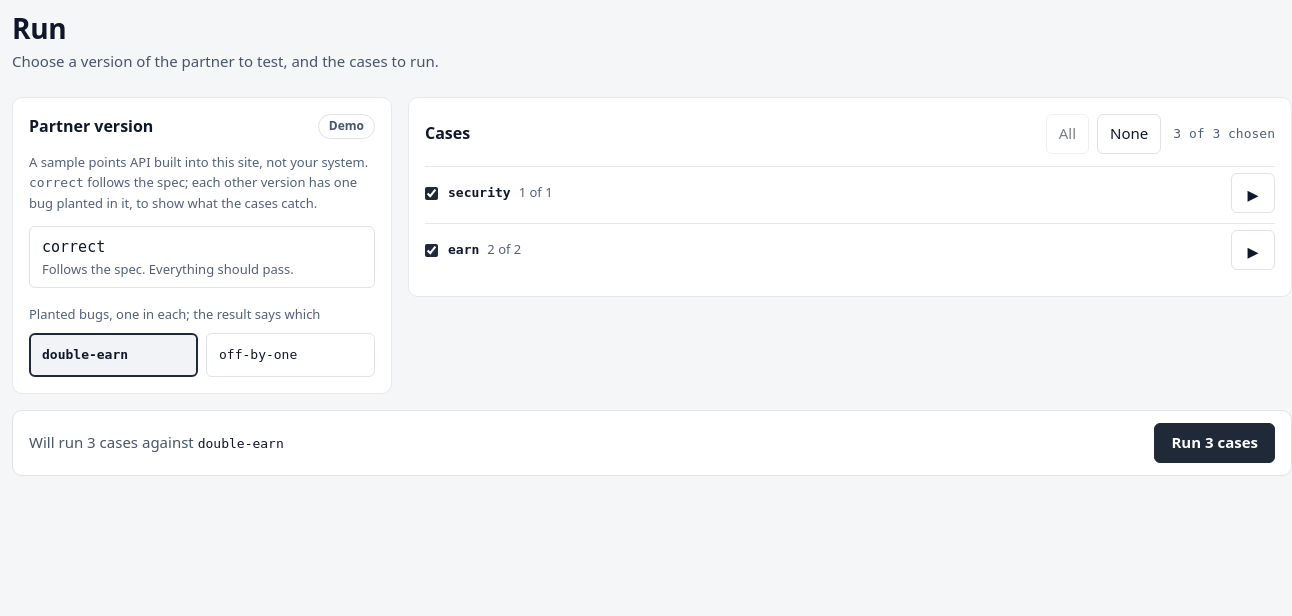
Test: the Run page › while a run goes › keeps the version card and the run bar, and shows the lanes in place of the cases
This screenshot has width=1292, height=616.
What coordinates should you click on to do the following:
click the button "Run 3 cases"
I would click on:
 (1215, 443)
Its box is [1154,423,1275,463].
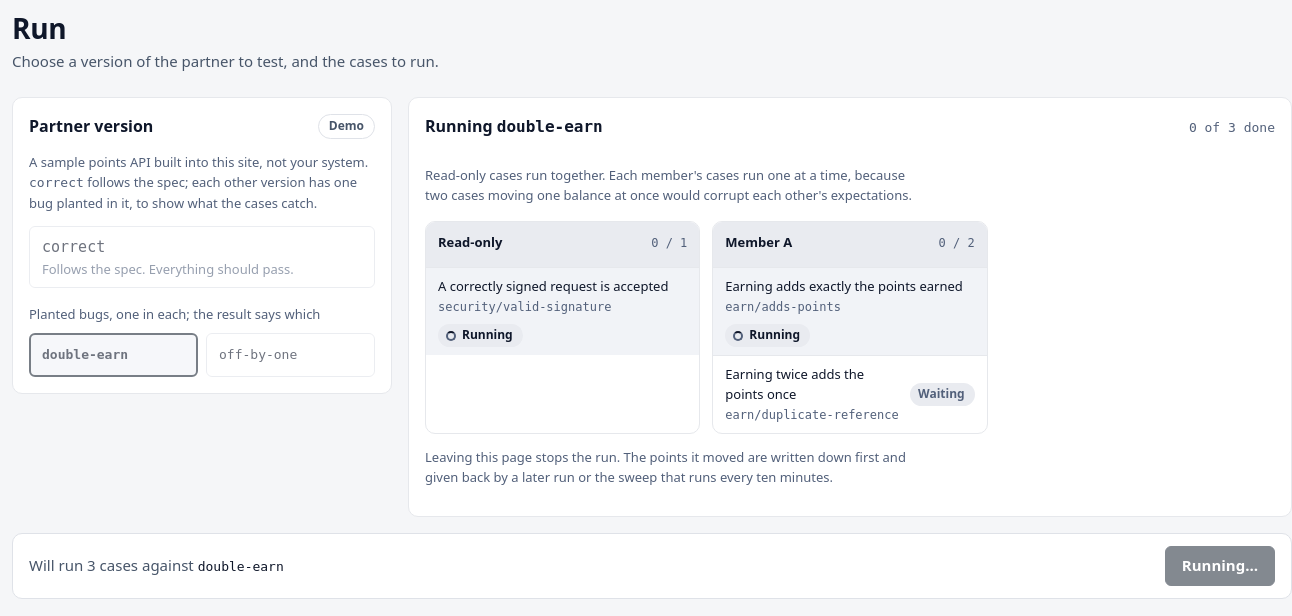
Expected: the heading "Partner version" is shown, [29,114,153,139]
Result: the button "Running…" is shown at [1165,546,1275,586]
Result: the heading "Running double-earn" is shown at [425,114,603,140]
